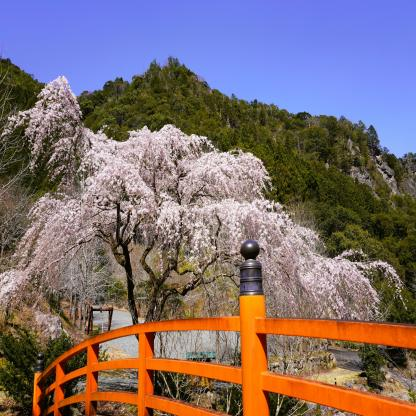ShidareZakura: (0, 75, 408, 338)
